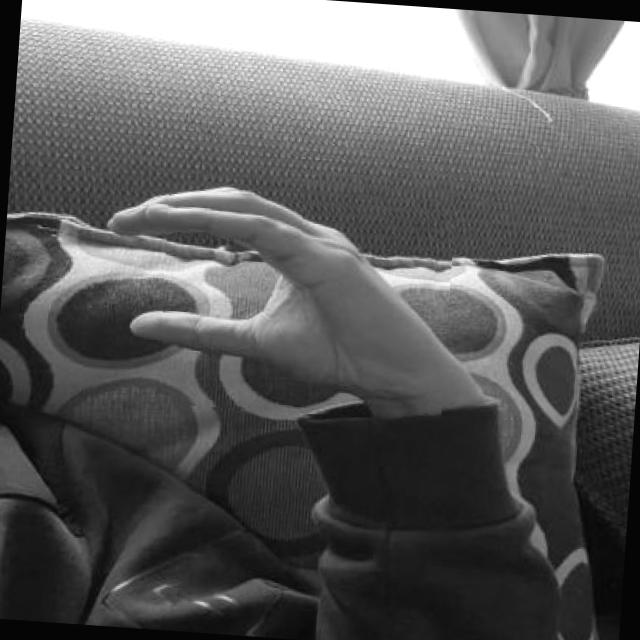C: (85, 168, 456, 422)
